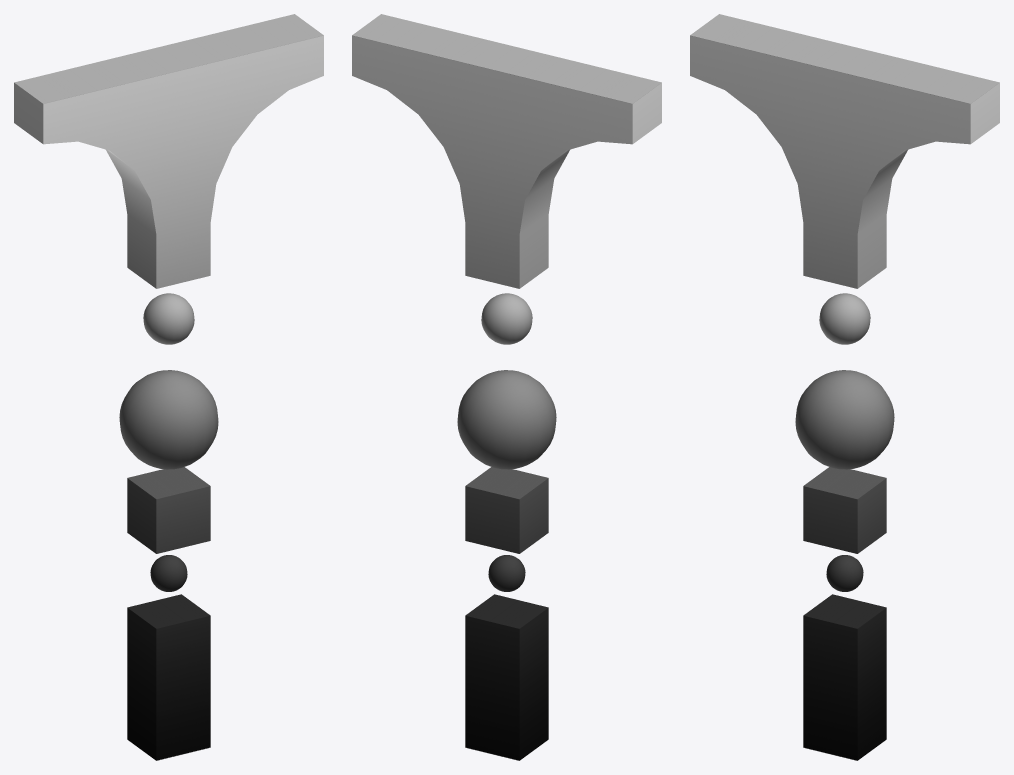
File: BG_pillier_V6.fbx
3 views of the same model, side by side, from view 1: azimuth 30°, elevation 25°; view 2: azimuth 150°, elevation 25°; view 3: azimuth 330°, elevation 25° (orthographic).
Parts seen in each view (by area): view 1: BG_pillier_V6; view 2: BG_pillier_V6; view 3: BG_pillier_V6.
Boxes of the visible parts, x1=… form: BG_pillier_V6: x1=14, y1=14, x2=323, y2=760; BG_pillier_V6: x1=352, y1=14, x2=661, y2=760; BG_pillier_V6: x1=690, y1=14, x2=999, y2=760.
Bounding box in the file's own units: 1024 × 2386 × 315.
